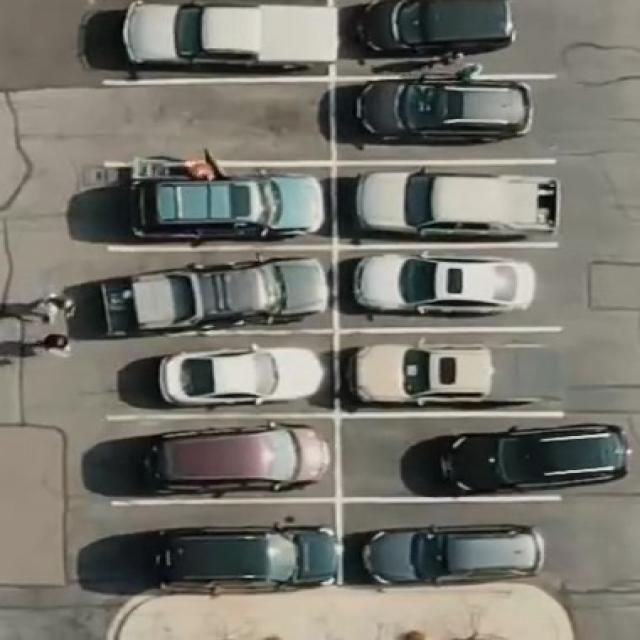space-empty: (98, 75, 330, 169)
space-occupied: (91, 497, 337, 595), (337, 414, 623, 498), (92, 242, 336, 340), (337, 323, 572, 416), (96, 413, 337, 502), (330, 68, 553, 161), (101, 158, 335, 246), (334, 157, 564, 245), (335, 240, 559, 328), (92, 0, 335, 79), (95, 334, 337, 412), (340, 500, 554, 588), (337, 0, 520, 68)
